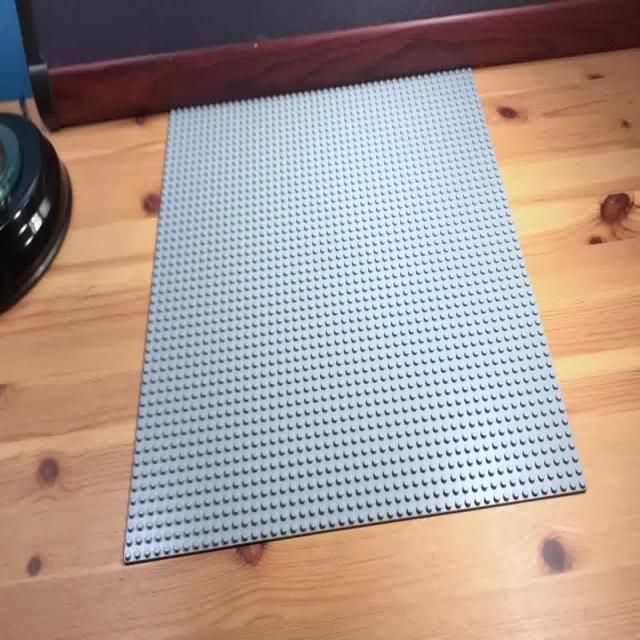figure: (128, 69, 581, 555)
